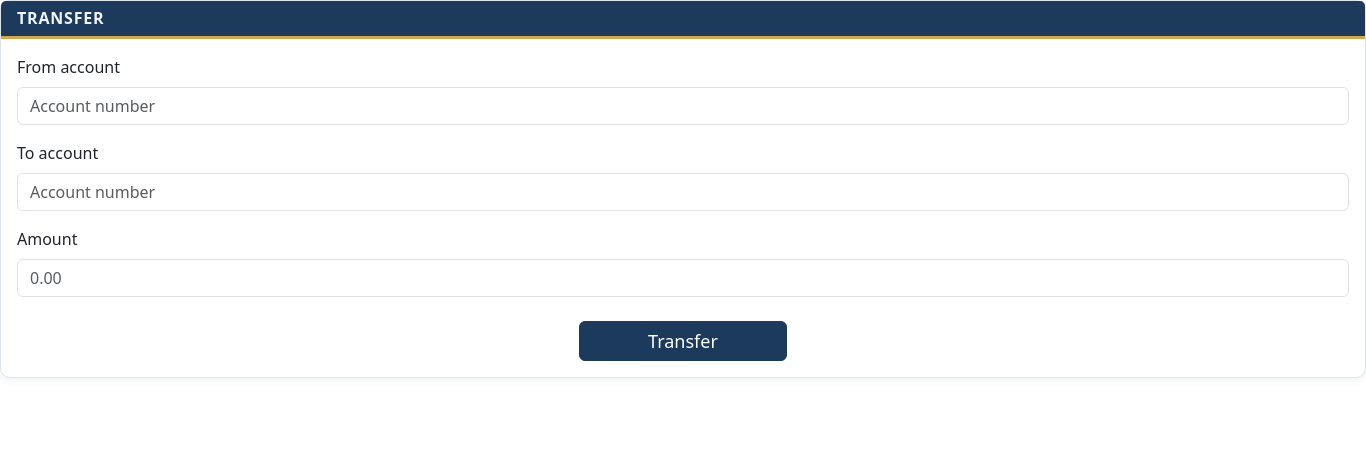
Transfer › Transfer errors › shows error when account numbers are the same
Type "1234567890" into the field labelled "From account".
click(683, 106); type("1234567890")  # box x1=17 y1=87 x2=1349 y2=125
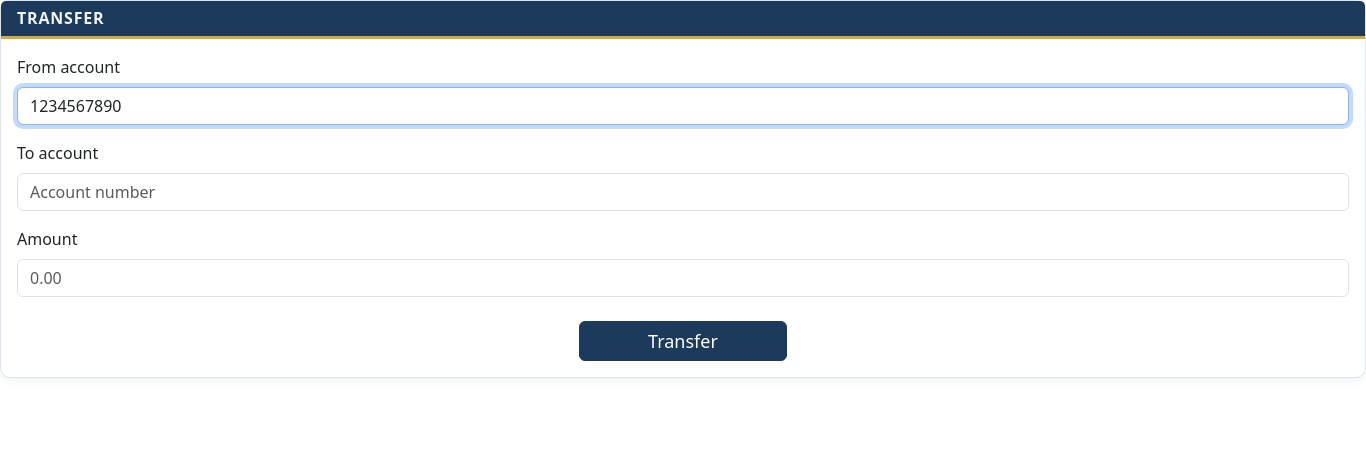
Type "1234567890" into the field labelled "To account".
click(683, 192); type("1234567890")  # box x1=17 y1=173 x2=1349 y2=211
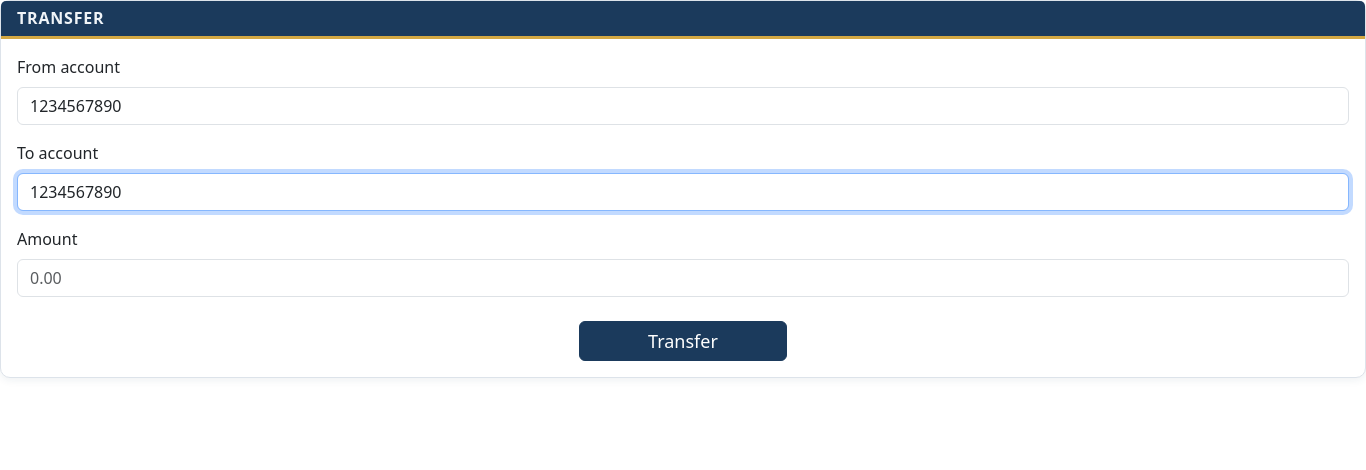
Type "100" into the number field labelled "Amount".
click(683, 278); type("100")  # box x1=17 y1=259 x2=1349 y2=297
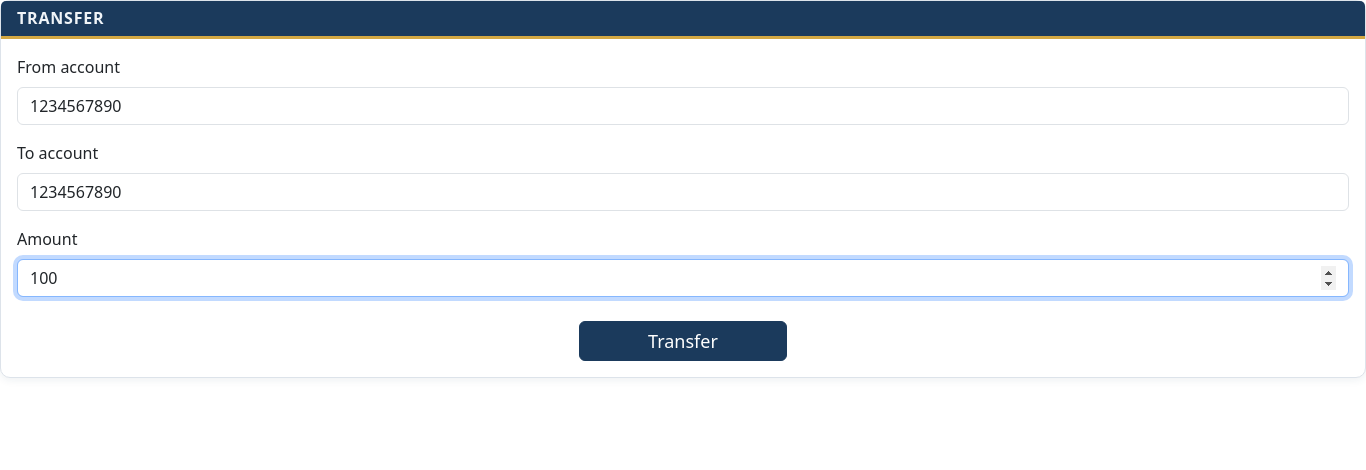
Click the button "Transfer".
click(683, 341)  # box x1=579 y1=321 x2=787 y2=361
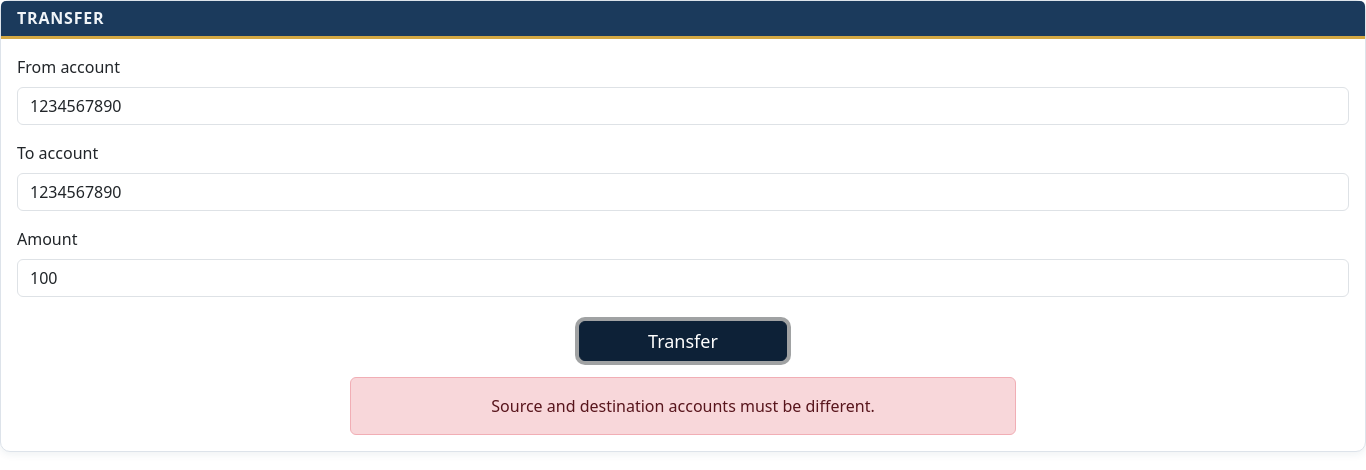
Check: the message reads "Source and destination accounts must be different.", box x1=491 y1=395 x2=875 y2=417
